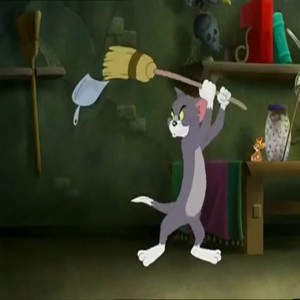Jerry: (249, 135, 268, 162)
